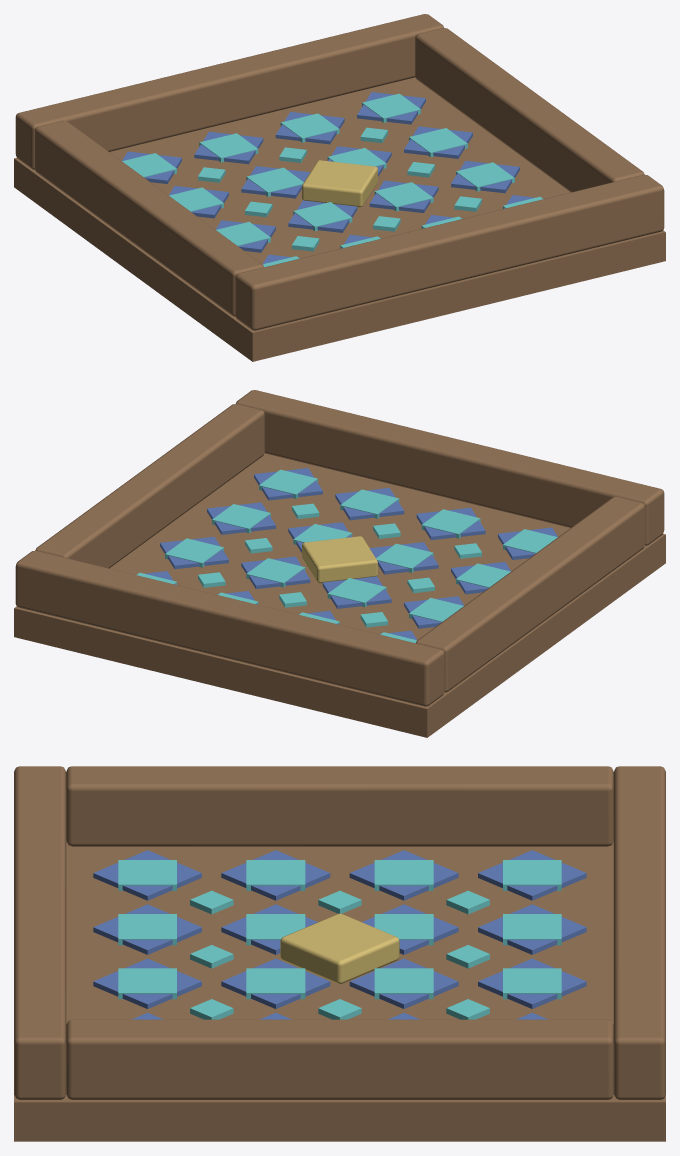
File: painted-ceiling-co-00f1cae6.glb
The picture shows the model from 3 angles, top to bottom: view 1: azimuth 30°, elevation 25°; view 2: azimuth 150°, elevation 25°; view 3: azimuth 270°, elevation 25°; orthographic projection. The views are drawn at different scales.
Parts seen in each view (by area): view 1: painted-ceiling-coffer; view 2: painted-ceiling-coffer; view 3: painted-ceiling-coffer.
Boxes of the visible parts, left/top/right/bottom form: painted-ceiling-coffer: left=14, top=14, right=665, bottom=361; painted-ceiling-coffer: left=14, top=390, right=665, bottom=737; painted-ceiling-coffer: left=14, top=766, right=665, bottom=1141.
Size of the model in its own units: 1.5 by 0.26 by 1.5.
